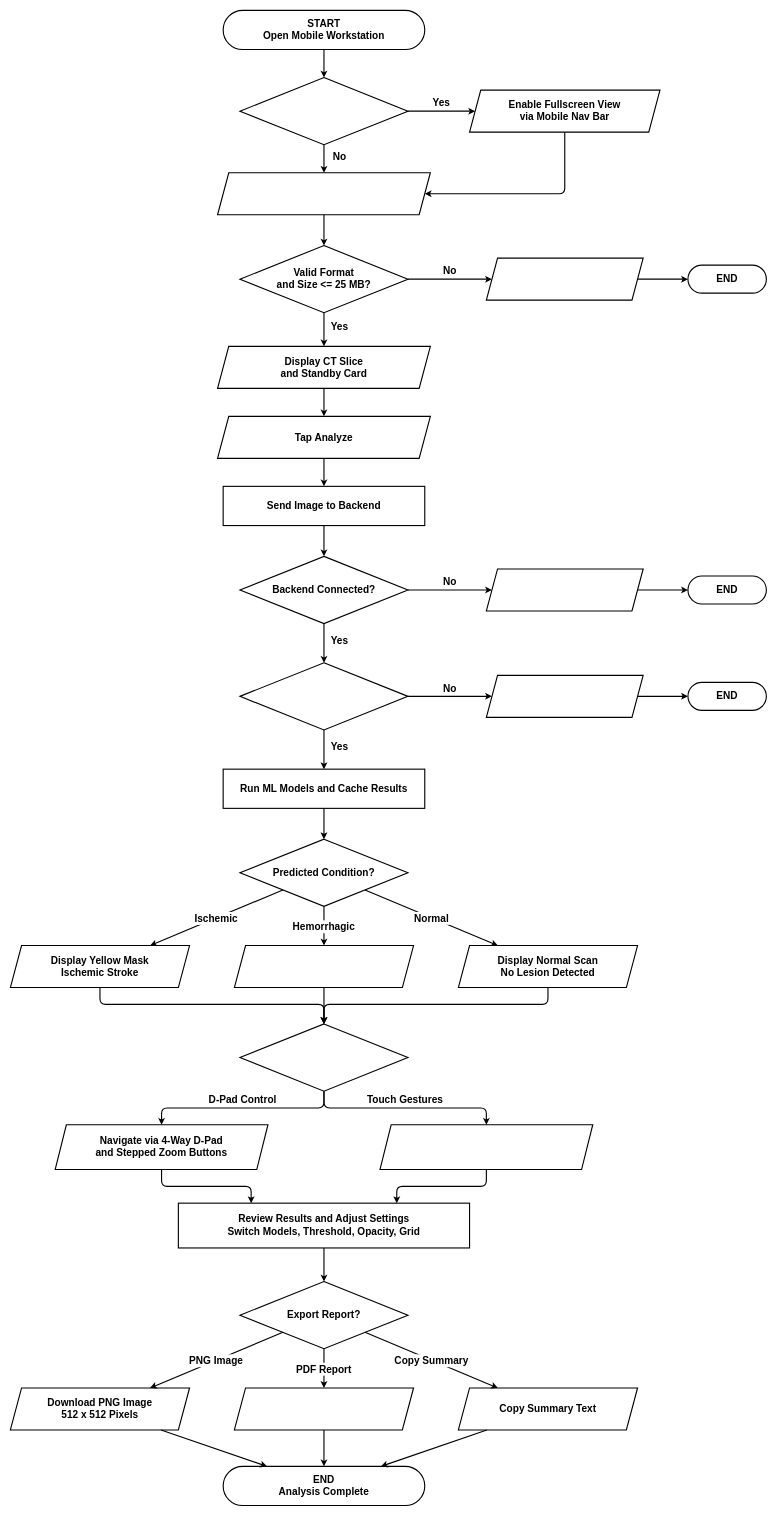
The diagram is 776 pixels wide and 1515 high, and some of its shapes have lost their labels. The shapes that lost their labels are listed below. From the top down, each one's centre as x and y in pixels, then its label:
At point (323, 111): "Toggle Fullscreen?".
At point (324, 193): "Upload Brain CT Scan".
At point (564, 278): "Show Upload Error".
At point (564, 589): "Show Disconnected Card".
At point (323, 696): "Valid Brain CT Scan?".
At point (564, 696): "Show Invalid Scan Card".
At point (324, 966): "Display Red Mask Hemorrhagic Stroke".
At point (323, 1057): "Viewport Navigation Mode?".
At point (486, 1147): "Unlock Touch Gestures for Direct Pan and Pinch Zoom".
At point (324, 1408): "Download PDF Report".
